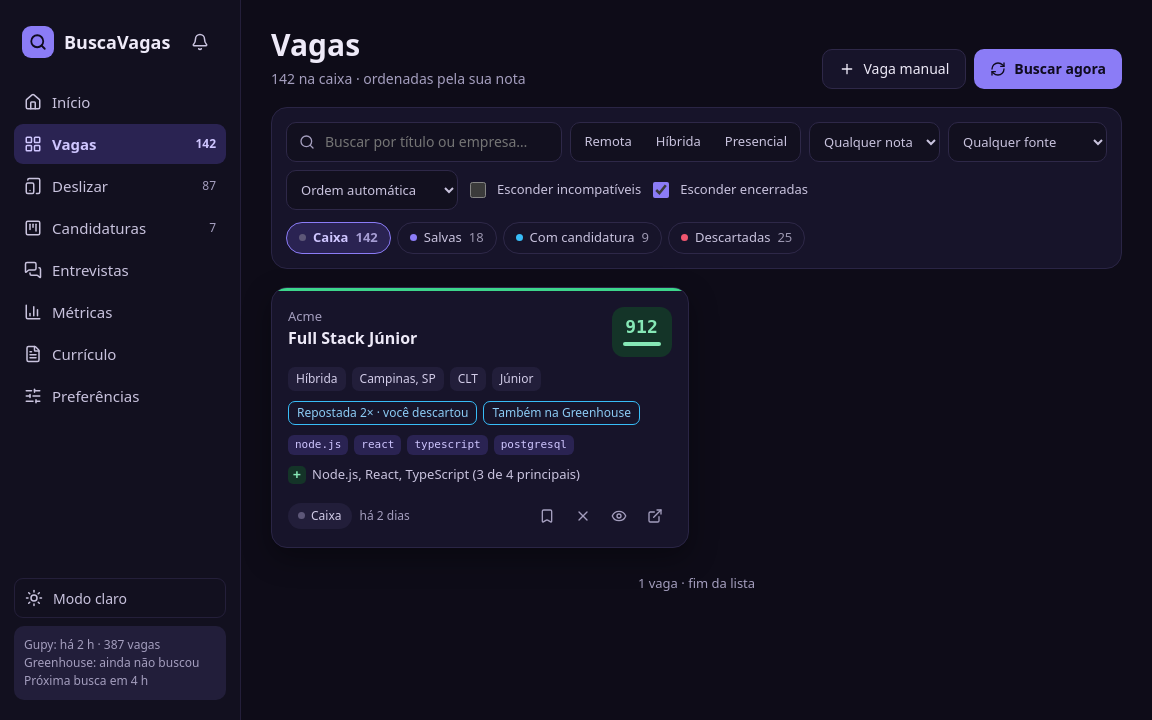
Scenario: Repostadas › cartão mostra os selos; o painel mostra outros links e as vezes anteriores
Expected: the list named "Avisos da vaga" shows "Repostada 2× · você descartou", [297,404,468,420]
Expected: the list named "Avisos da vaga" shows "Também na Greenhouse", [492,404,631,420]
Step 1. Click the button "Full Stack Júnior" → (353, 338), box [288,328,417,349]
(page scrolled)
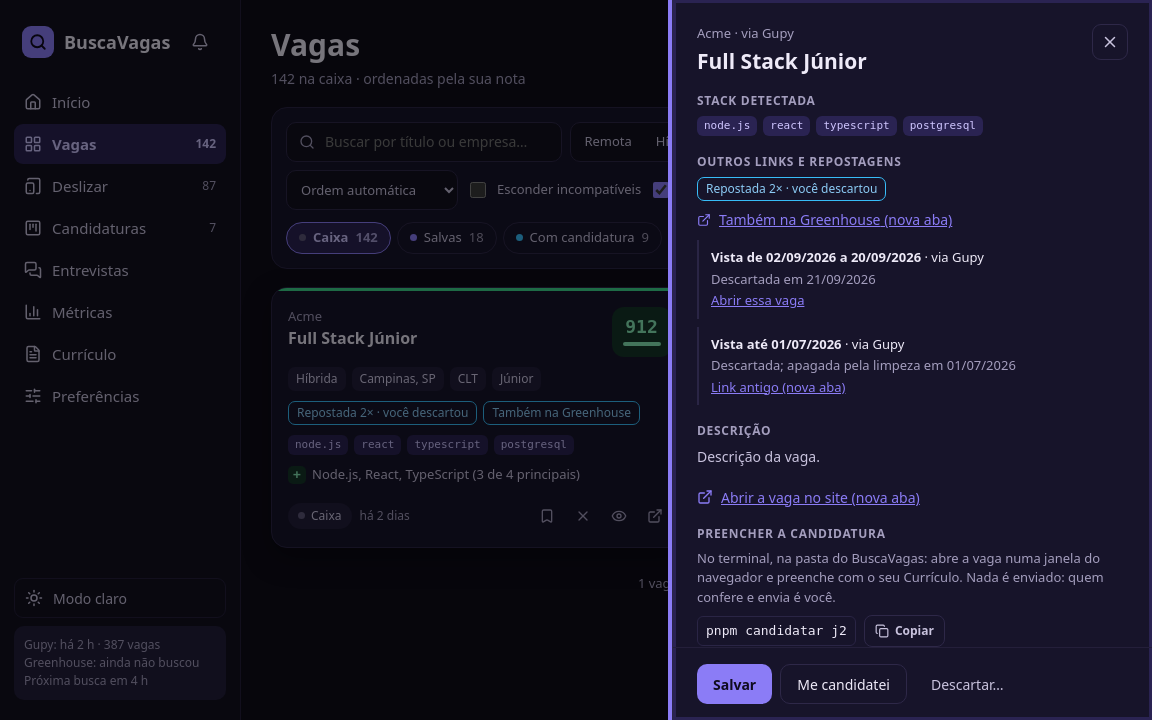
Now the list item that starts with "Vista de 02/09/2026 a 20/09/2026" shows "Vista de 02/09/2026 a 20/09/2026 · via Gupy", box [697,240,1128,319]
Now the list item that starts with "Vista de 02/09/2026 a 20/09/2026" shows "Descartada em 21/09/2026", box [711,270,876,288]
Now the list item that starts with "Vista até 01/07/2026" shows "Descartada; apagada pela limpeza em 01/07/2026", box [711,356,1016,374]
